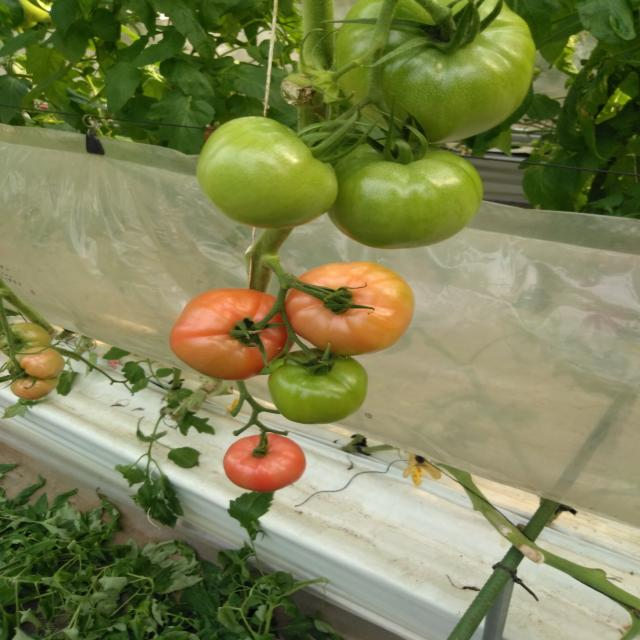n-half-riped: (284, 262, 414, 356), (169, 287, 297, 381), (6, 348, 65, 400)
n-riped: (223, 433, 306, 492)
n-unriped: (335, 0, 536, 144), (326, 138, 483, 250), (197, 116, 339, 230), (268, 347, 367, 424), (0, 322, 51, 358)
